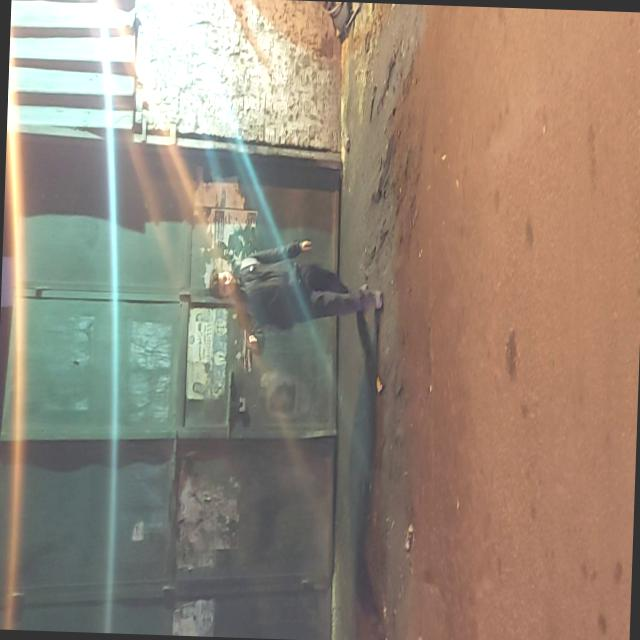long weapon: (235, 298, 268, 382)
